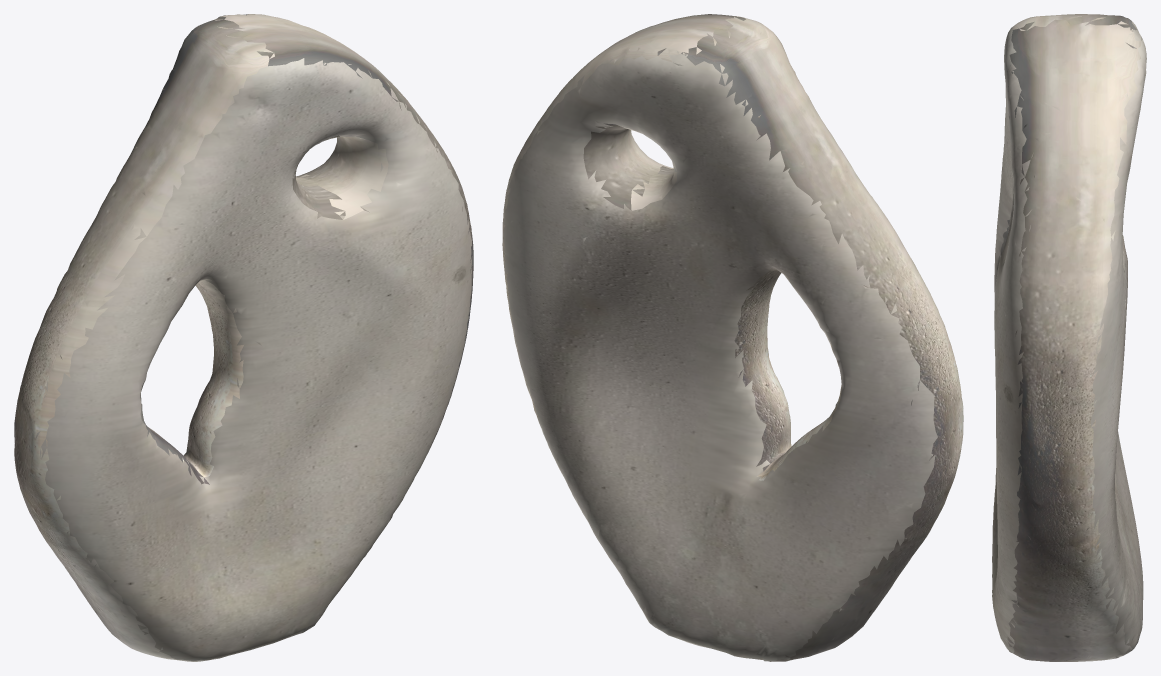
File: escultura-esc-011.glb
3 renders of one model, left to right at view 1: azimuth 30°, elevation 25°; view 2: azimuth 150°, elevation 25°; view 3: azimuth 270°, elevation 25°, orthographic. The views are drawn at different scales.
Visible parts, largest first — view 1: world; view 2: world; view 3: world.
Boxes of the visible parts, bbox=[...] form: world: bbox=[14, 14, 473, 661]; world: bbox=[502, 14, 963, 661]; world: bbox=[992, 14, 1146, 661].
Size of the model in its own units: 0.8929 by 1.16 by 0.2617.
1 material, 1 textured.
